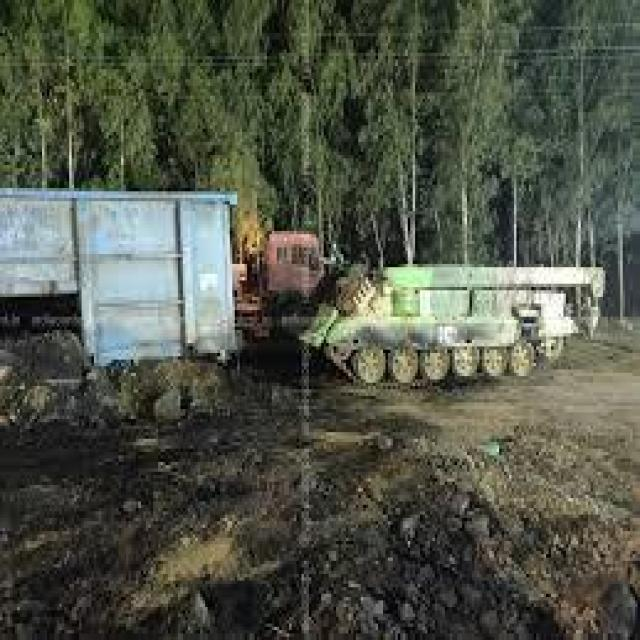Tanks: (315, 230, 607, 384)
